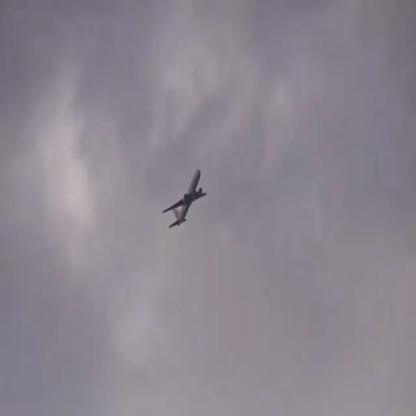CIV_Plane: (162, 170, 207, 228)
